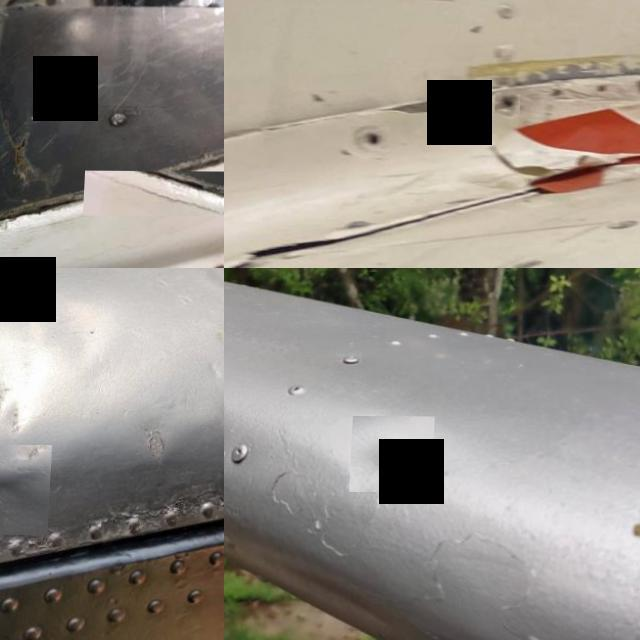Crack: (85, 169, 224, 215), (386, 80, 492, 118), (232, 236, 377, 260)
Dent: (354, 415, 439, 492), (0, 444, 57, 534)
Missing_Fastener: (352, 126, 392, 151), (497, 94, 522, 114)
